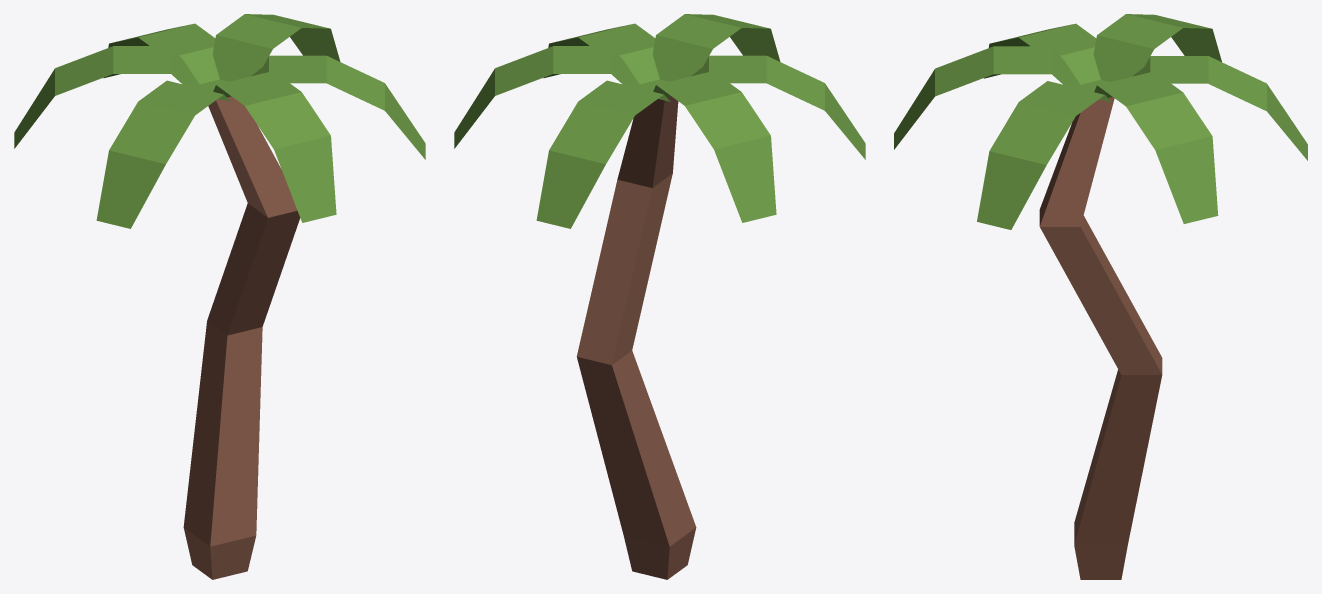
The model's file is tree_palmBend.fbx.
3 views of the same model, side by side, from view 1: azimuth 30°, elevation 25°; view 2: azimuth 150°, elevation 25°; view 3: azimuth 270°, elevation 25° (orthographic).
Visible parts, largest first — view 1: tree_palmBend; view 2: tree_palmBend; view 3: tree_palmBend.
Boxes of the visible parts, bbox=[...] form: tree_palmBend: bbox=[14, 14, 425, 579]; tree_palmBend: bbox=[454, 14, 865, 579]; tree_palmBend: bbox=[894, 14, 1307, 579].
Bounding box in the file's own units: 2.61 × 3.84 × 2.82.
